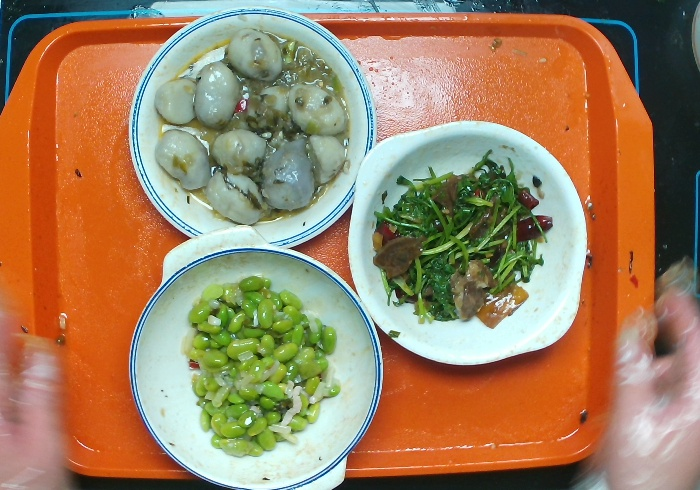HZYJPL-Dai_Er_Bai_Yuan_Wan: (343, 115, 598, 374)
HZYJPL-Lan_Bian_Dai_Er_Wan: (114, 218, 391, 490)
HZYJPL-Lan_Bian_Yuan_Die: (118, 2, 387, 261)
